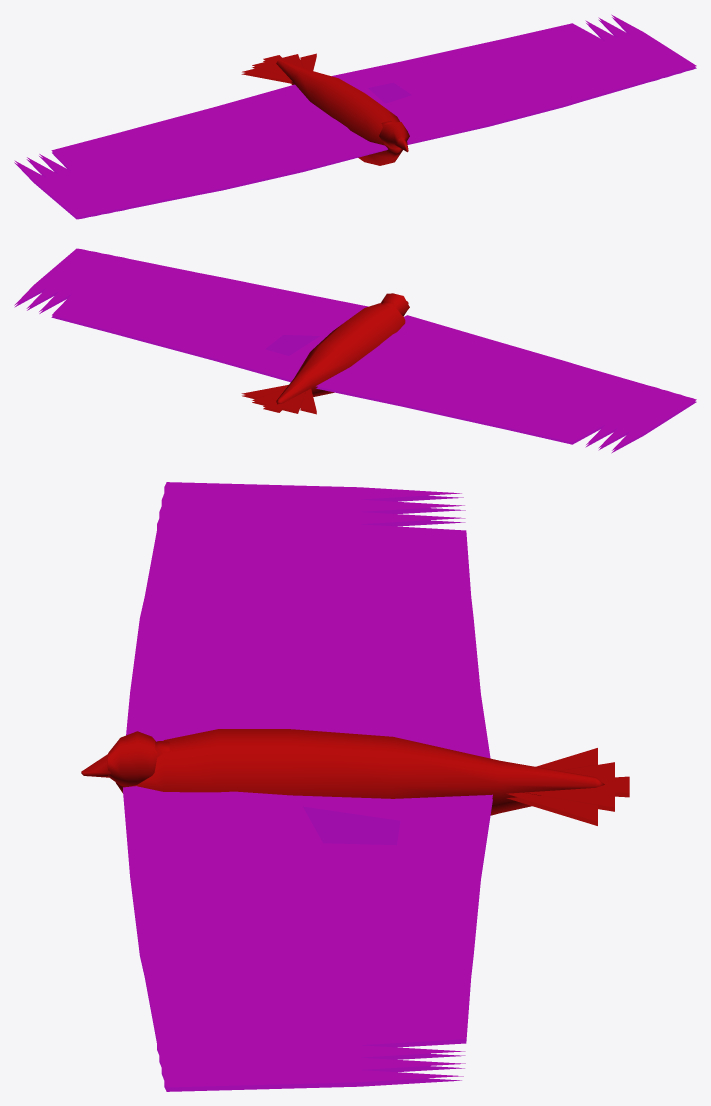
File: eagle.glb
3 renders of one model, top to bottom at view 1: azimuth 30°, elevation 25°; view 2: azimuth 150°, elevation 25°; view 3: azimuth 270°, elevation 25°, orthographic. The views are drawn at different scales.
Parts seen in each view (by area): view 1: bird; view 2: bird; view 3: bird.
Boxes of the visible parts, bbox=[...] form: bird: bbox=[14, 14, 696, 219]; bird: bbox=[14, 248, 696, 453]; bird: bbox=[81, 482, 629, 1091].
Bounding box in the file's own units: 2.3 × 0.1836 × 0.8789.
